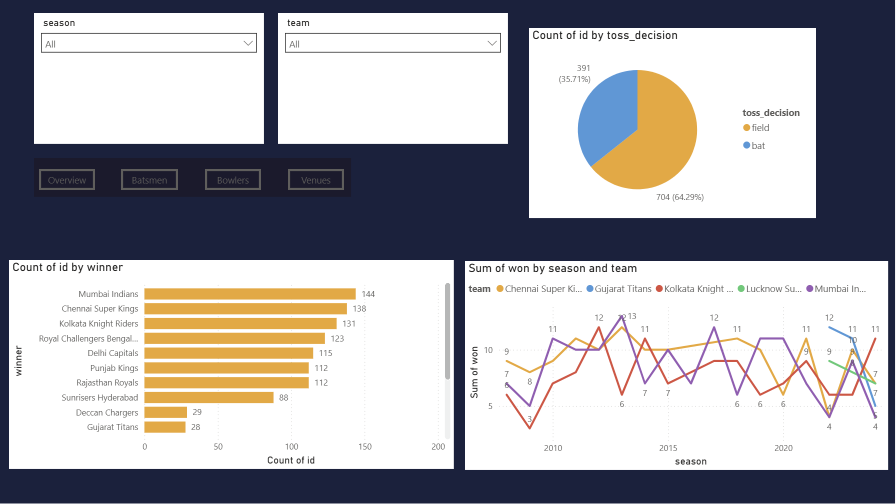

This screenshot's page, from the dashboard's own definition file:
{"tool":"powerbi","page":{"name":"Teams","canvas":[1280,720],"ordinal":1},"visuals":[{"type":"barChart","fields":{"Category":["Matches.winner"],"Y":["CountNonNull(Matches.id)"]},"box":[14.3,370,635.7,298.6],"z":0},{"type":"lineChart","fields":{"Category":["Team_Season.season"],"Y":["Sum(Team_Season.won)"],"Series":["Team_Season.team"]},"box":[665.7,371.4,604.3,298.6],"z":1000},{"type":"pieChart","fields":{"Category":["Matches.toss_decision"],"Y":["CountNonNull(Matches.id)"]},"box":[757.1,40,410,271.4],"z":2000},{"type":"slicer","fields":{"Values":["Matches.season"]},"box":[50,18.6,328.6,187.1],"z":3000},{"type":"slicer","fields":{"Values":["Team_Season.team"]},"box":[398.6,18.6,328.6,187.1],"z":4000},{"type":"textbox","box":[50,225.7,452.9,55.7],"z":4500},{"type":"actionButton","box":[56.4,240.7,80,30],"z":5000},{"type":"actionButton","box":[412.9,241.4,80,30],"z":6000},{"type":"actionButton","box":[174.8,241.4,81.4,30],"z":7000},{"type":"actionButton","box":[294.5,241.4,80,30],"z":9000}]}

Visuals, with their boxes in screenshot pixels (x1, y1, x2, y2), scaled from the page's 1280x720 canvas onto the 896x504 screenshot:
barChart - Matches.winner x CountNonNull(Matches.id): 10 259 455 468
lineChart - Team_Season.season x Sum(Team_Season.won): 466 260 889 469
pieChart - Matches.toss_decision x CountNonNull(Matches.id): 530 28 817 218
slicer - Matches.season: 35 13 265 144
slicer - Team_Season.team: 279 13 509 144
textbox: 35 158 352 197
actionButton: 39 168 95 189
actionButton: 289 169 345 190
actionButton: 122 169 179 190
actionButton: 206 169 262 190
